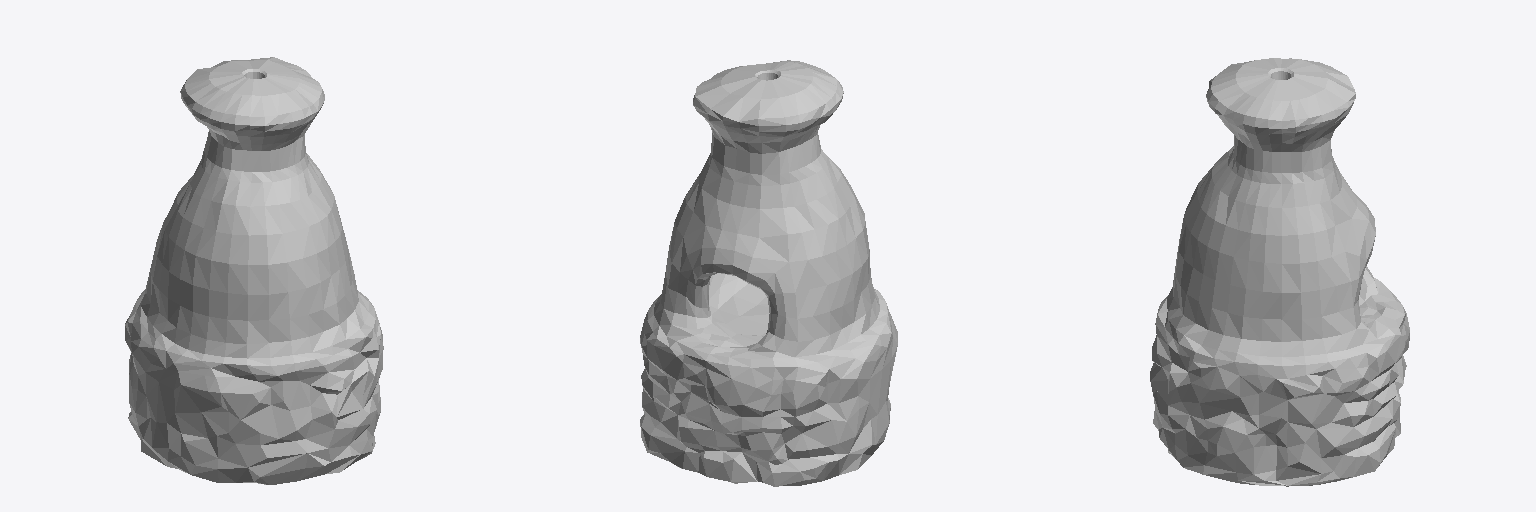
Rendered from iceberg.obj.
The picture shows the model from 3 angles: view 1: azimuth 30°, elevation 25°; view 2: azimuth 150°, elevation 25°; view 3: azimuth 270°, elevation 25°; orthographic projection.
Parts seen in each view (by area): view 1: Furnace.002; view 2: Furnace.002; view 3: Furnace.002.
Boxes of the visible parts, <box> form: Furnace.002: <box>125,57,383,484</box>; Furnace.002: <box>640,60,897,486</box>; Furnace.002: <box>1150,58,1409,486</box>.
Bounding box in the file's own units: 17.38 × 27.93 × 18.07.